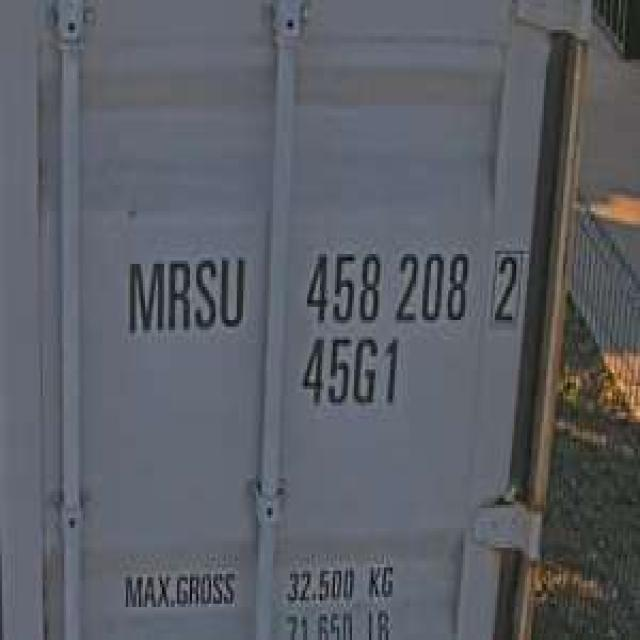dv: (484, 237, 527, 337)
owner: (120, 241, 250, 343)
serial: (298, 237, 472, 330)
size: (294, 330, 404, 416)
